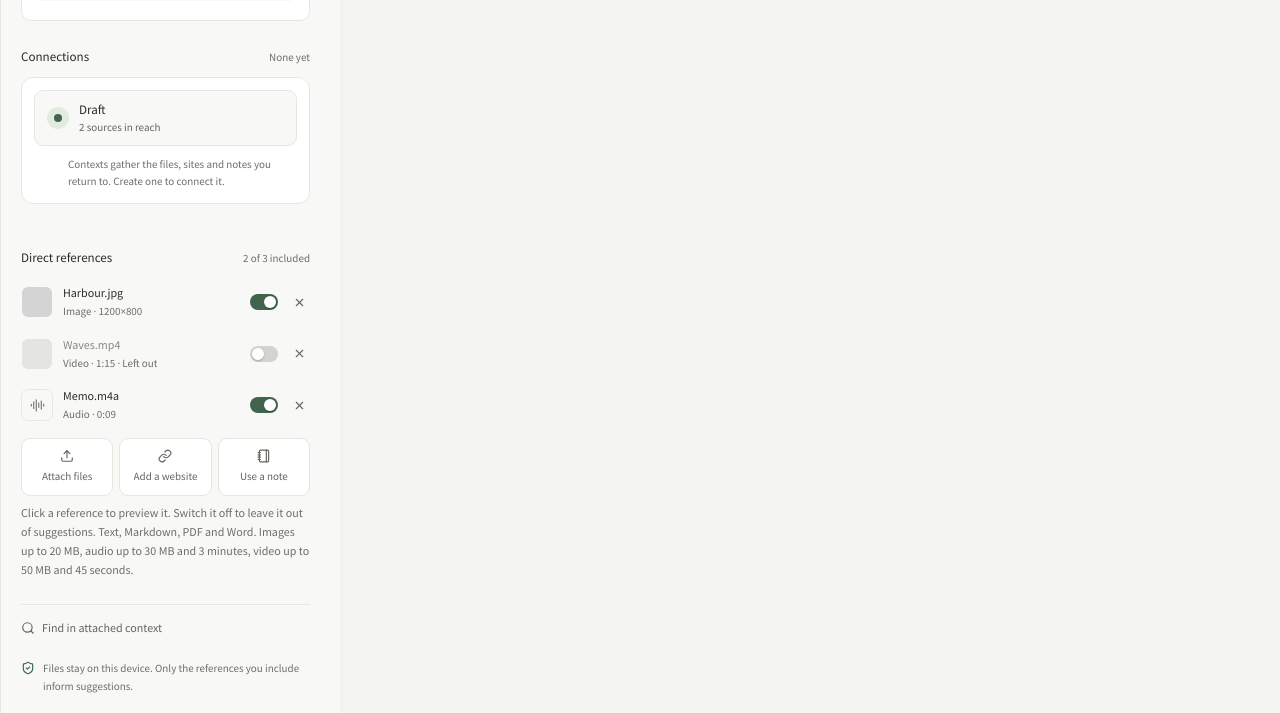
intent and direct references › renders media references with thumbnails and durations and previews their caption
(page scrolled)
Expected: the text "Image · 1200×800" is shown, [63, 303, 142, 320]
Expected: the text "Video · 1:15 · Left out" is shown, [63, 355, 157, 371]
Click the checkbox named "Use Waves.mp4 as context": (264,354) [250, 346, 278, 362]
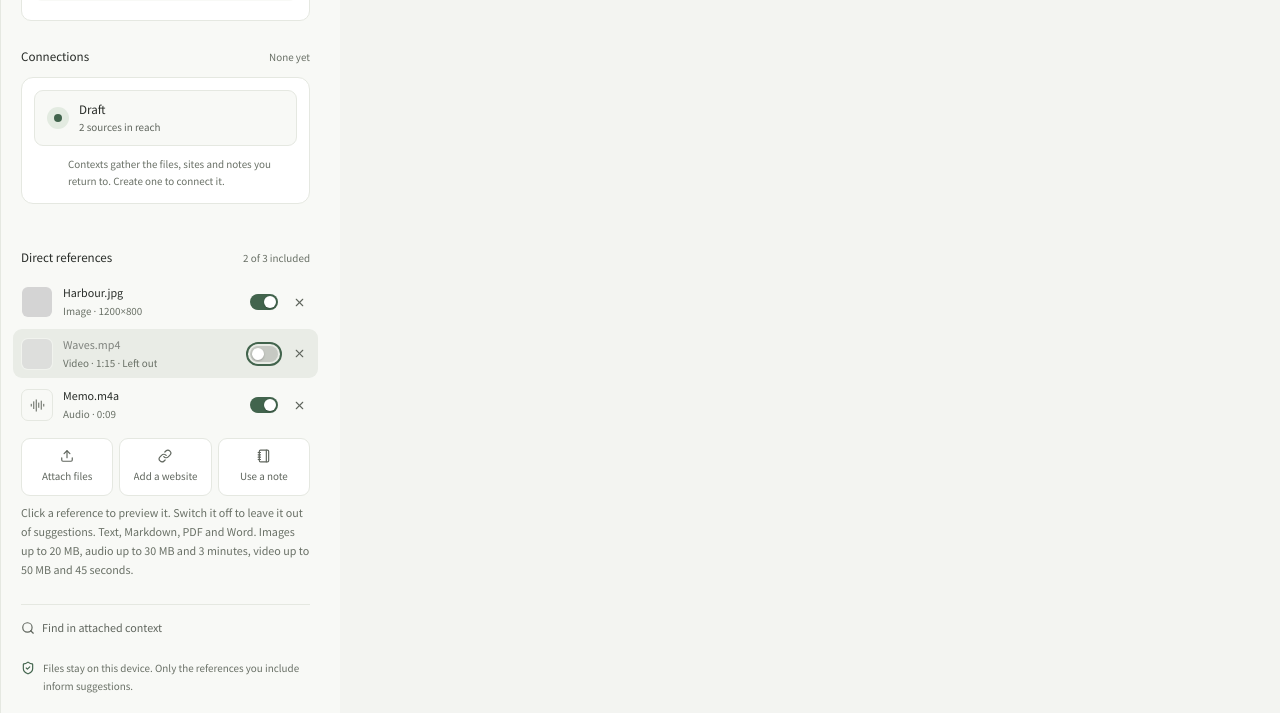
Click the button with aria-label "Preview Harbour.jpg": (132,302) [21, 282, 244, 322]
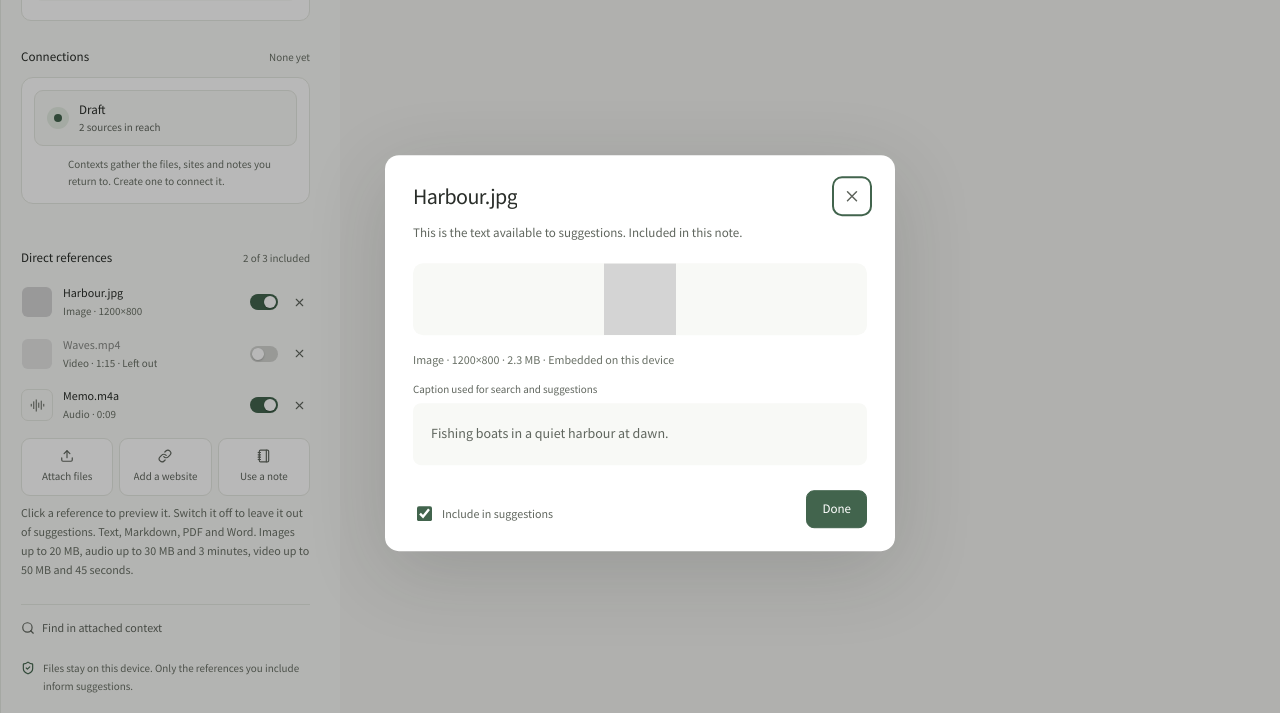
Result: the dialog "Harbour.jpg" shows "Image · 1200×800 · 2.3 MB · Embedded on this device" at [413, 352, 674, 367]
Result: the text with class "source-preview-text" reads "Fishing boats in a quiet harbour at dawn." at [431, 425, 668, 443]
